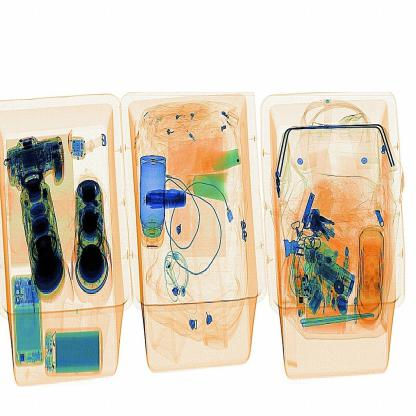scissors: (145, 180, 196, 226)
